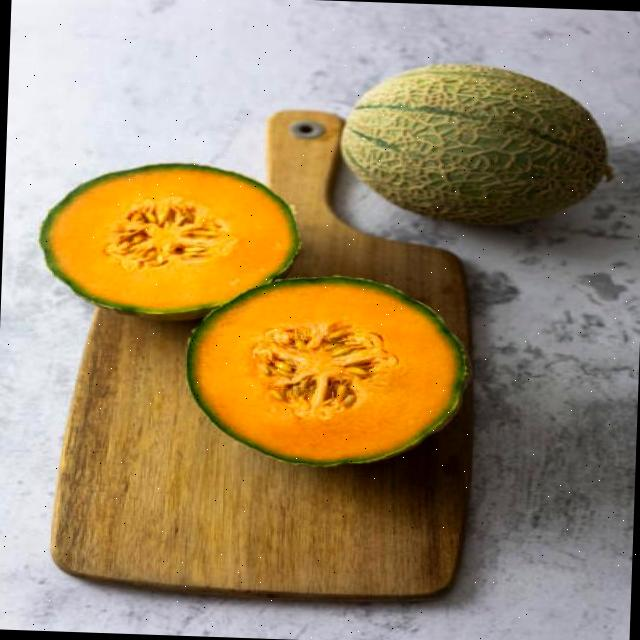Hami Melon: (184, 278, 469, 470), (342, 61, 608, 234), (42, 158, 294, 322)
